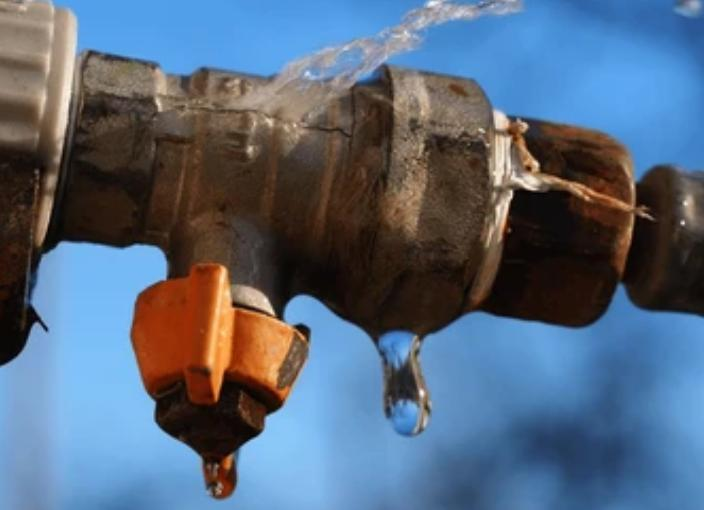pipe burst: (208, 0, 526, 135)
water drop: (367, 320, 432, 436), (200, 454, 238, 500)
